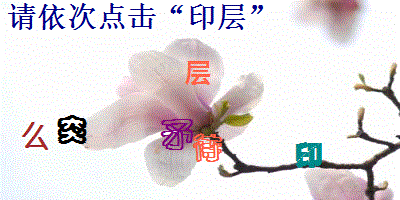text: (160, 117, 194, 151), (56, 114, 88, 146), (21, 120, 51, 153), (191, 132, 224, 162), (294, 141, 324, 169), (184, 59, 213, 86)
